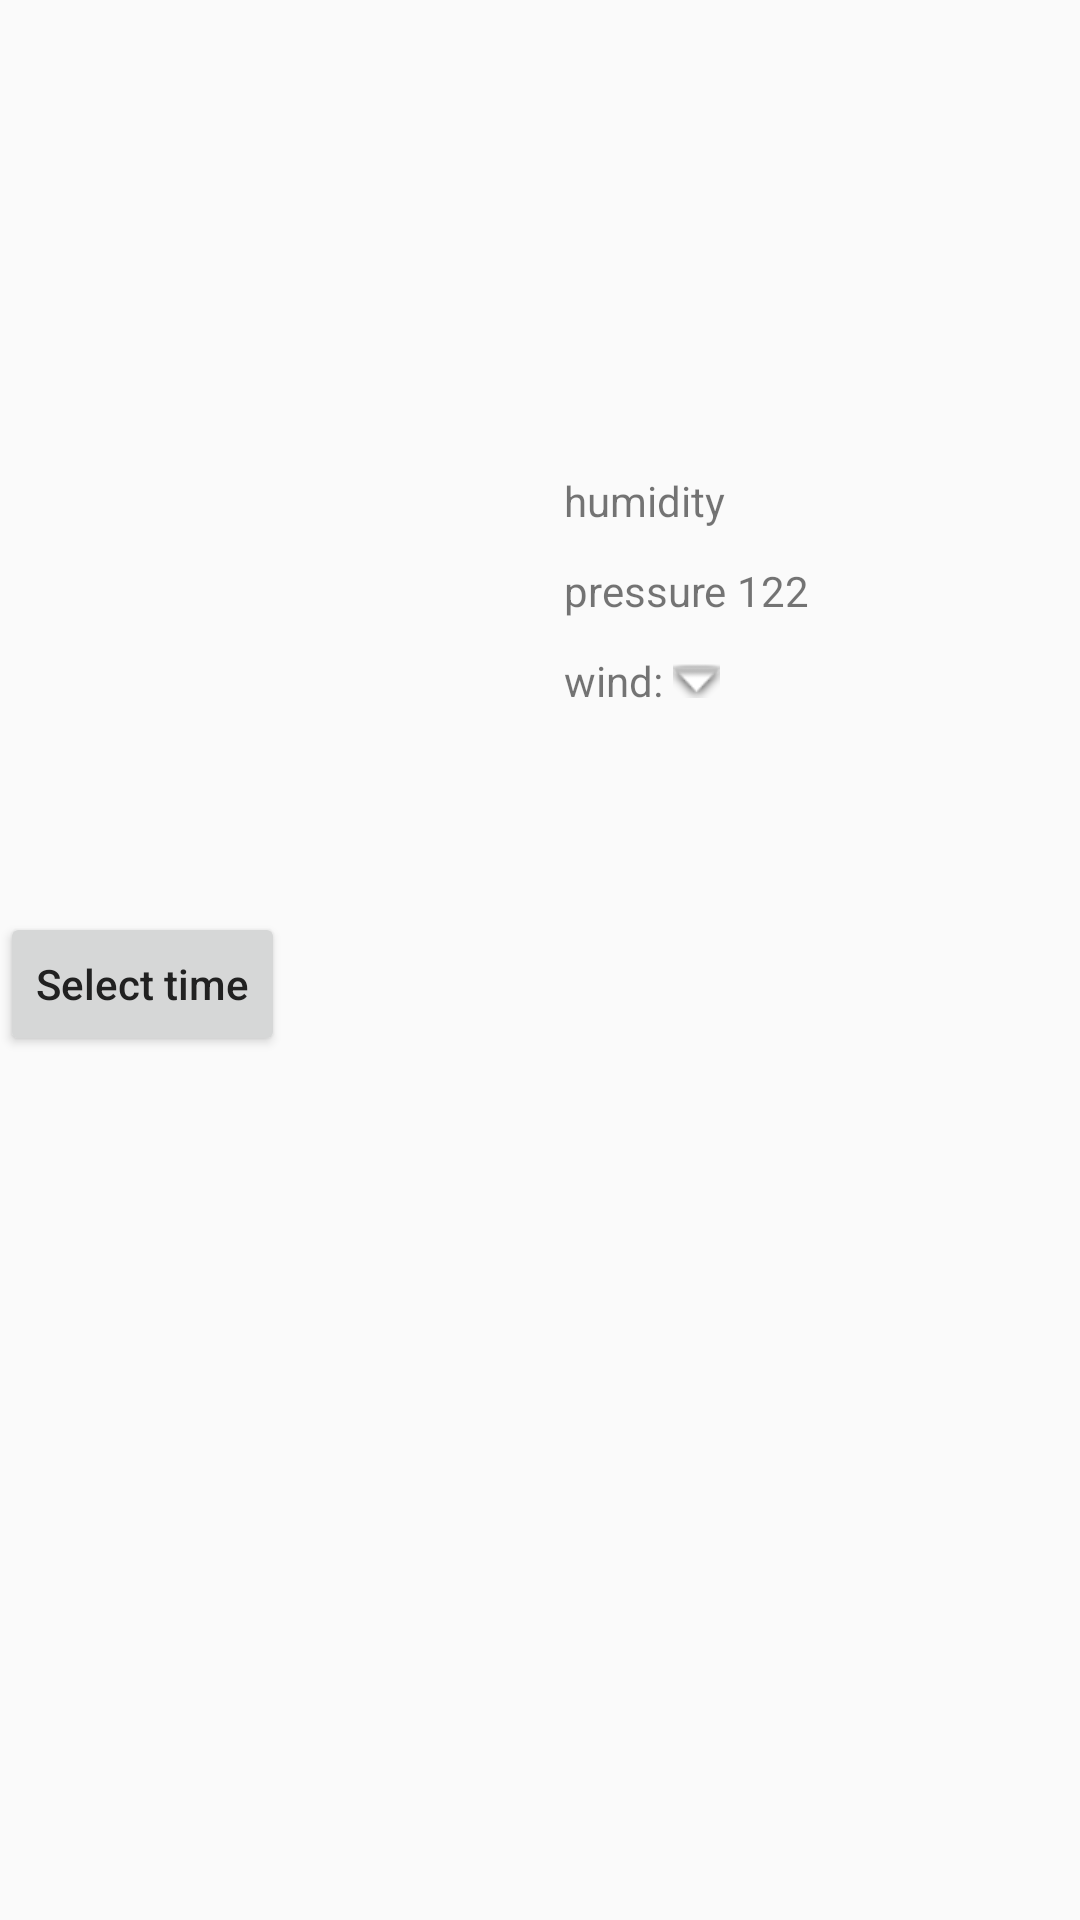

Icons on this 1080 x 1920 Android screen, each with the point to tap as (x,y):
arrow down float: (696,681)
